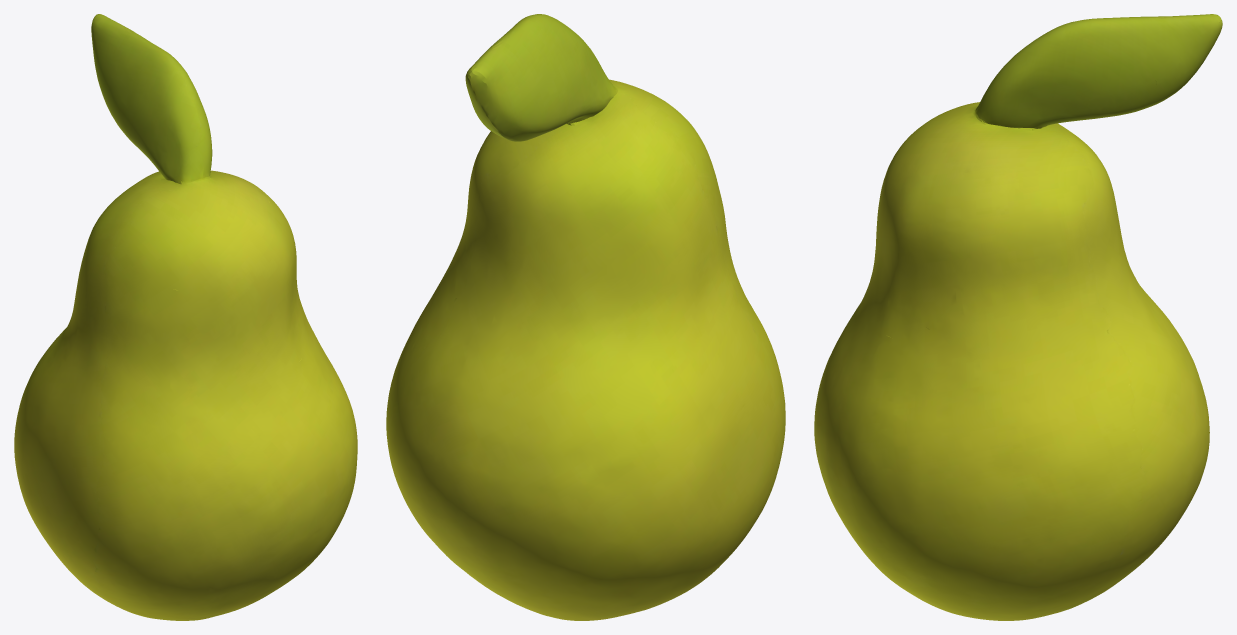
The model's file is pear.glb.
3 renders of one model, left to right at view 1: azimuth 30°, elevation 25°; view 2: azimuth 150°, elevation 25°; view 3: azimuth 270°, elevation 25°, orthographic. The views are drawn at different scales.
Visible parts, largest first — view 1: model; view 2: model; view 3: model.
Boxes of the visible parts, left/top/right/bottom form: model: left=14, top=14, right=357, bottom=620; model: left=386, top=14, right=785, bottom=620; model: left=814, top=14, right=1222, bottom=620.
Bounding box in the file's own units: 0.5605 × 1 × 0.6184.
1 material, 1 textured.
